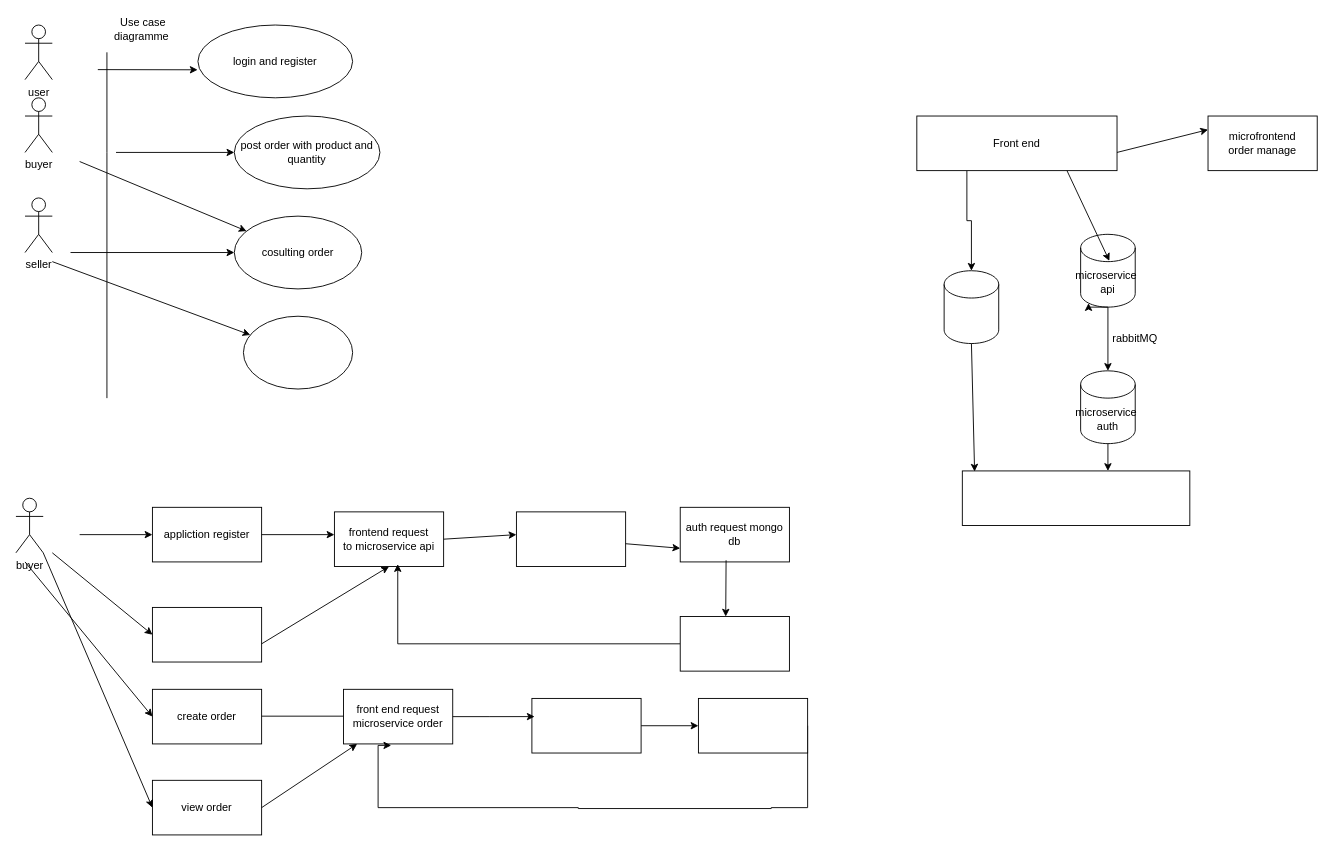
This 1333x851 diagram has some shape labels left out. The box of each missing label's shape, as (x1, y1, x2, y2) in pixels:
application login: (152, 607, 262, 662)
database return the new user: (679, 616, 789, 671)
Microserfice order: (943, 270, 999, 344)
microservice api communique with rabbit MQ to auth microservice: (516, 511, 626, 566)
modify information of order (exemple delivry in 3 day): (243, 315, 353, 389)
mong db create new order: (531, 698, 641, 753)
Mongo db: (961, 470, 1190, 526)
retunr new order: (698, 698, 808, 753)
